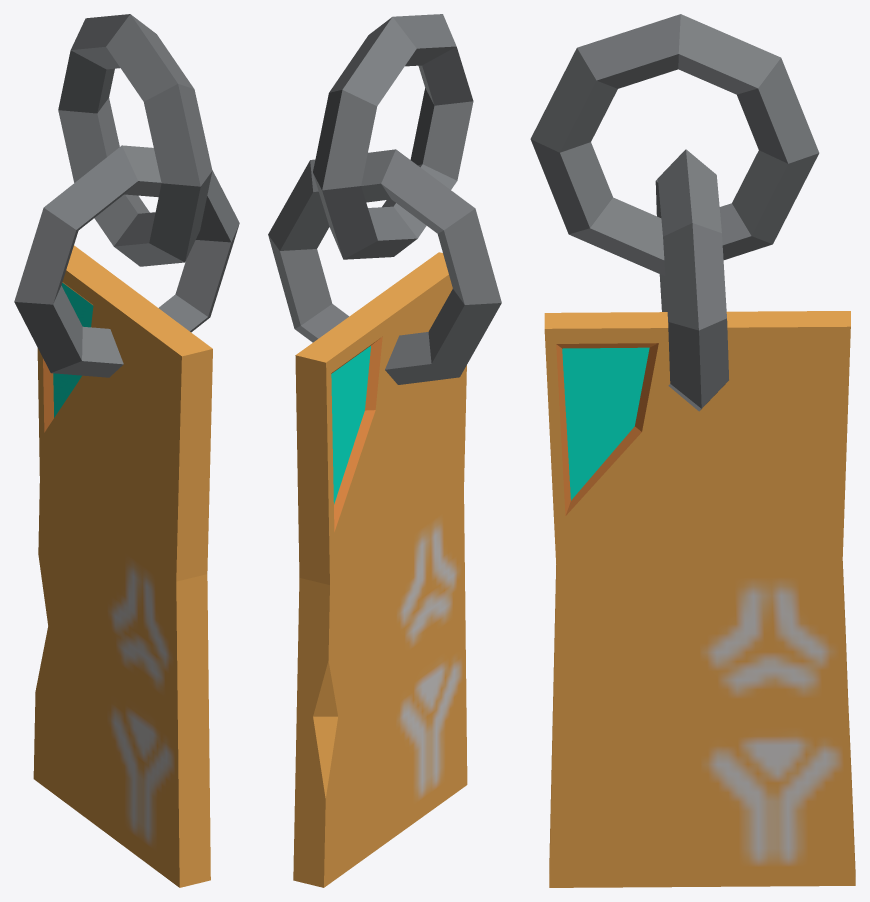
The model's file is SM_Wep_Charm_01.fbx.
3 renders of one model, left to right at view 1: azimuth 30°, elevation 25°; view 2: azimuth 150°, elevation 25°; view 3: azimuth 270°, elevation 25°, orthographic. The views are drawn at different scales.
Visible parts, largest first — view 1: SM_Wep_Charm_01; view 2: SM_Wep_Charm_01; view 3: SM_Wep_Charm_01.
Boxes of the visible parts, box(x1,y1,x2,y2) form: SM_Wep_Charm_01: box(14, 14, 239, 887); SM_Wep_Charm_01: box(268, 14, 501, 887); SM_Wep_Charm_01: box(530, 14, 855, 887).
Size of the model in its own units: 6.34 by 21.56 by 7.34.
